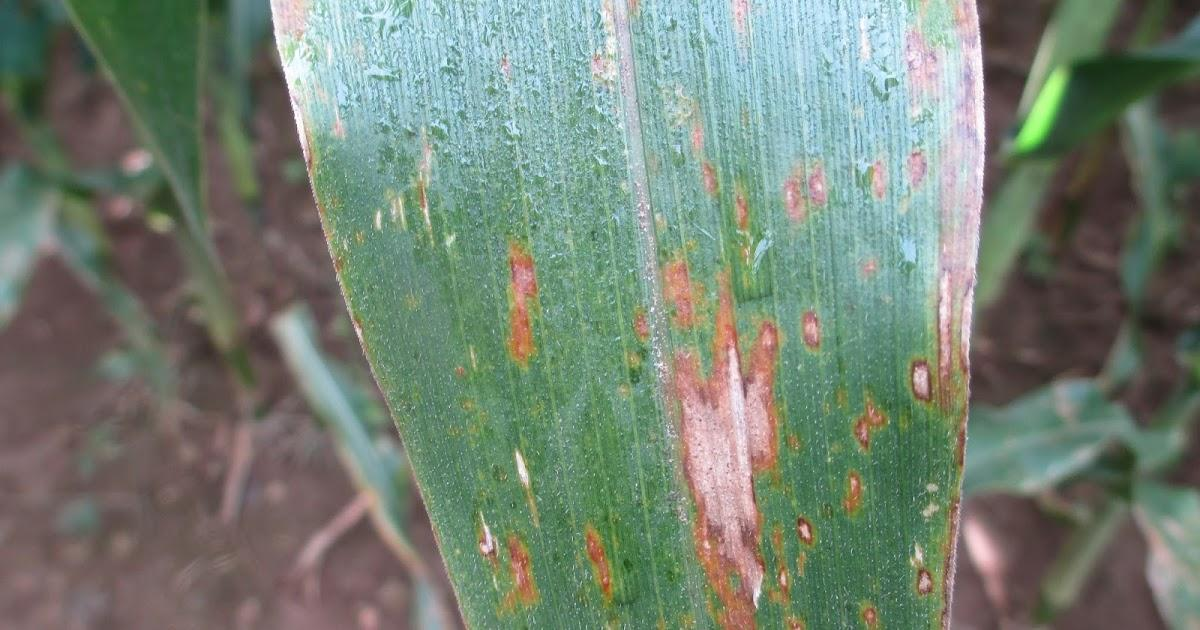Corn Gray leaf spot: (252, 4, 998, 630)
